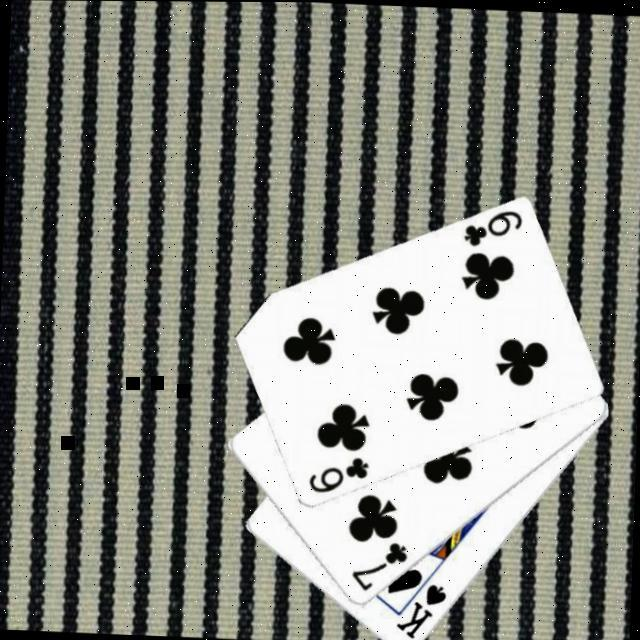6C: (303, 450, 370, 496), (458, 204, 524, 249)
7C: (346, 535, 410, 593)
KS: (392, 577, 450, 640)
